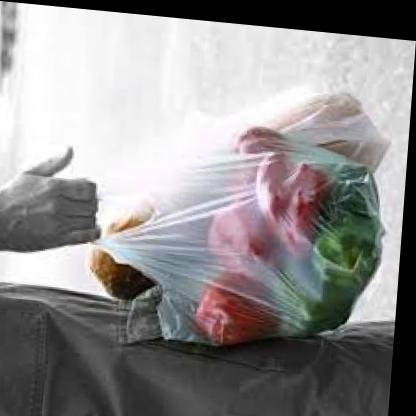Plastic: (49, 53, 386, 378)
